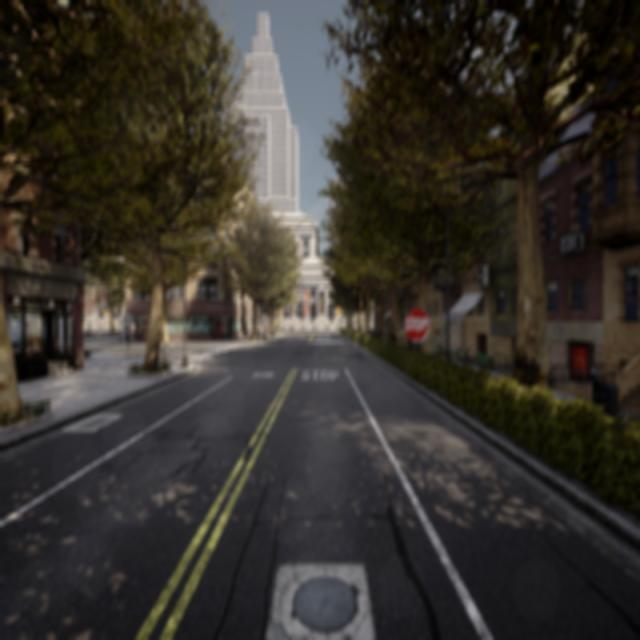stop sign: (401, 303, 432, 346), (404, 313, 429, 334)
